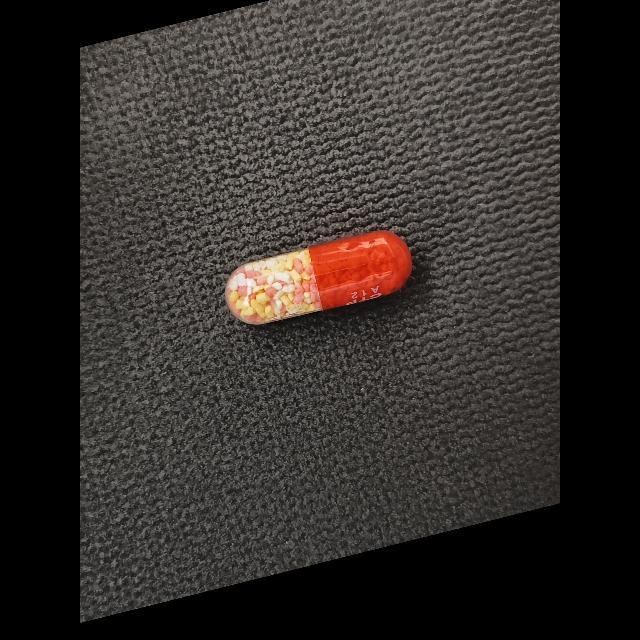Intact Capsule: (225, 230, 413, 325)
